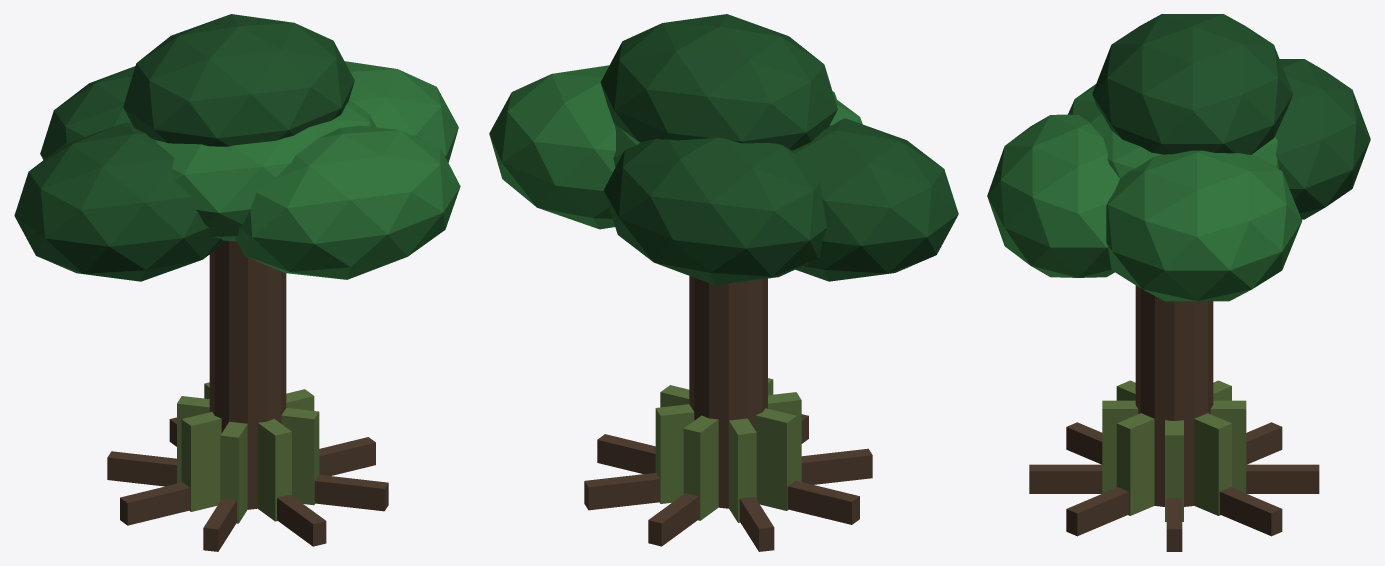
The model's file is SM_MistForestAncientOak_A.glb.
The picture shows the model from 3 angles, left to right: view 1: azimuth 30°, elevation 25°; view 2: azimuth 150°, elevation 25°; view 3: azimuth 270°, elevation 25°; orthographic projection. The views are drawn at different scales.
Visible parts, largest first — view 1: SM_MistForestAncientOak_A; view 2: SM_MistForestAncientOak_A; view 3: SM_MistForestAncientOak_A.
Boxes of the visible parts, <box> form: SM_MistForestAncientOak_A: <box>14,14,460,551</box>; SM_MistForestAncientOak_A: <box>489,14,958,551</box>; SM_MistForestAncientOak_A: <box>987,14,1370,551</box>.
Bounding box in the file's own units: 10.73 × 11.25 × 8.4.
